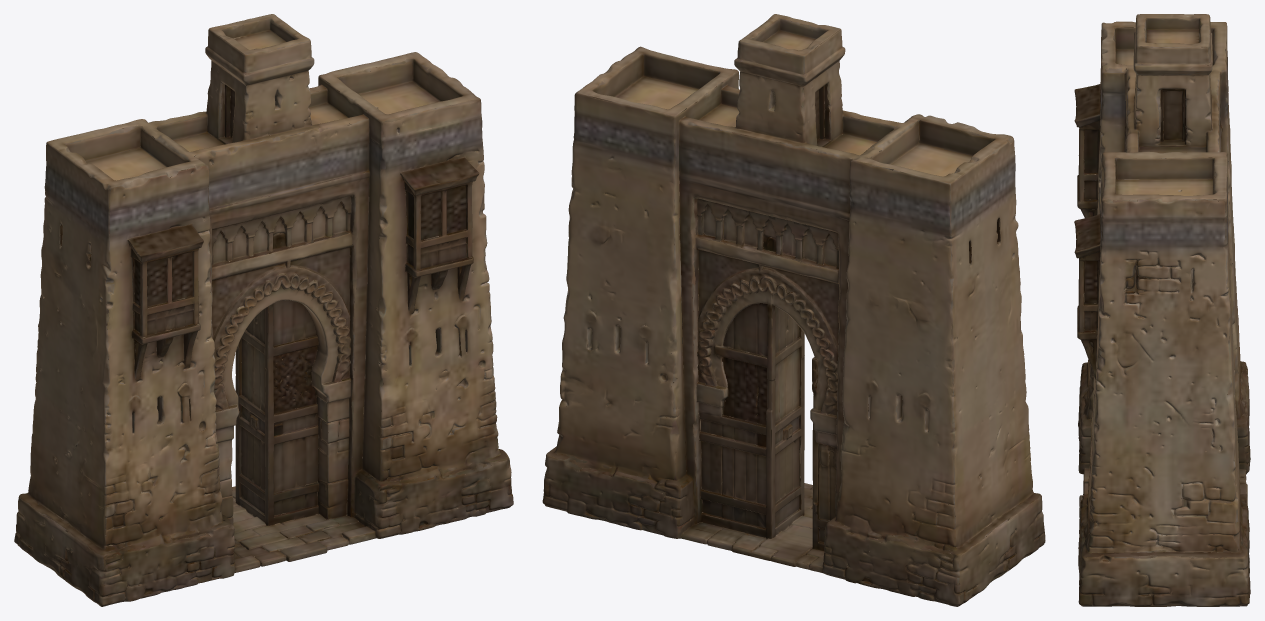
The model's file is gate.glb.
3 renders of one model, left to right at view 1: azimuth 30°, elevation 25°; view 2: azimuth 150°, elevation 25°; view 3: azimuth 270°, elevation 25°, orthographic. The views are drawn at different scales.
Visible parts, largest first — view 1: tripo_node_4891949d-8d7e-4888-a8ad-090000c342f7; view 2: tripo_node_4891949d-8d7e-4888-a8ad-090000c342f7; view 3: tripo_node_4891949d-8d7e-4888-a8ad-090000c342f7.
Part boxes in pixels (<box>): tripo_node_4891949d-8d7e-4888-a8ad-090000c342f7: <box>14,14,513,606</box>; tripo_node_4891949d-8d7e-4888-a8ad-090000c342f7: <box>542,14,1045,606</box>; tripo_node_4891949d-8d7e-4888-a8ad-090000c342f7: <box>1074,14,1250,606</box>.
Bounding box in the file's own units: 0.8858 × 1 × 0.3328.
Materials: 1 (1 with a texture image).
